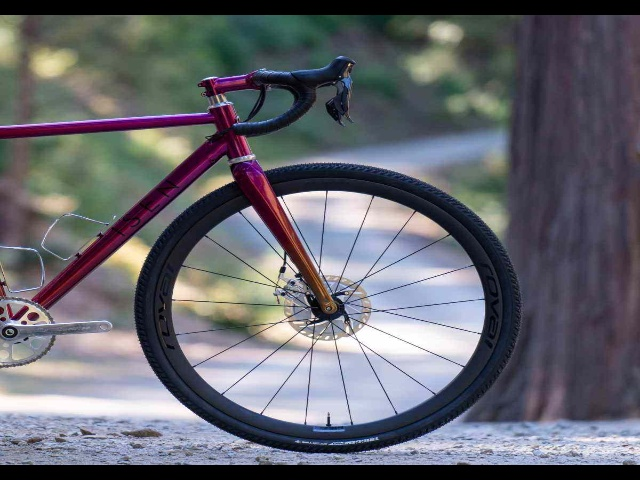bike: (5, 49, 550, 452)
